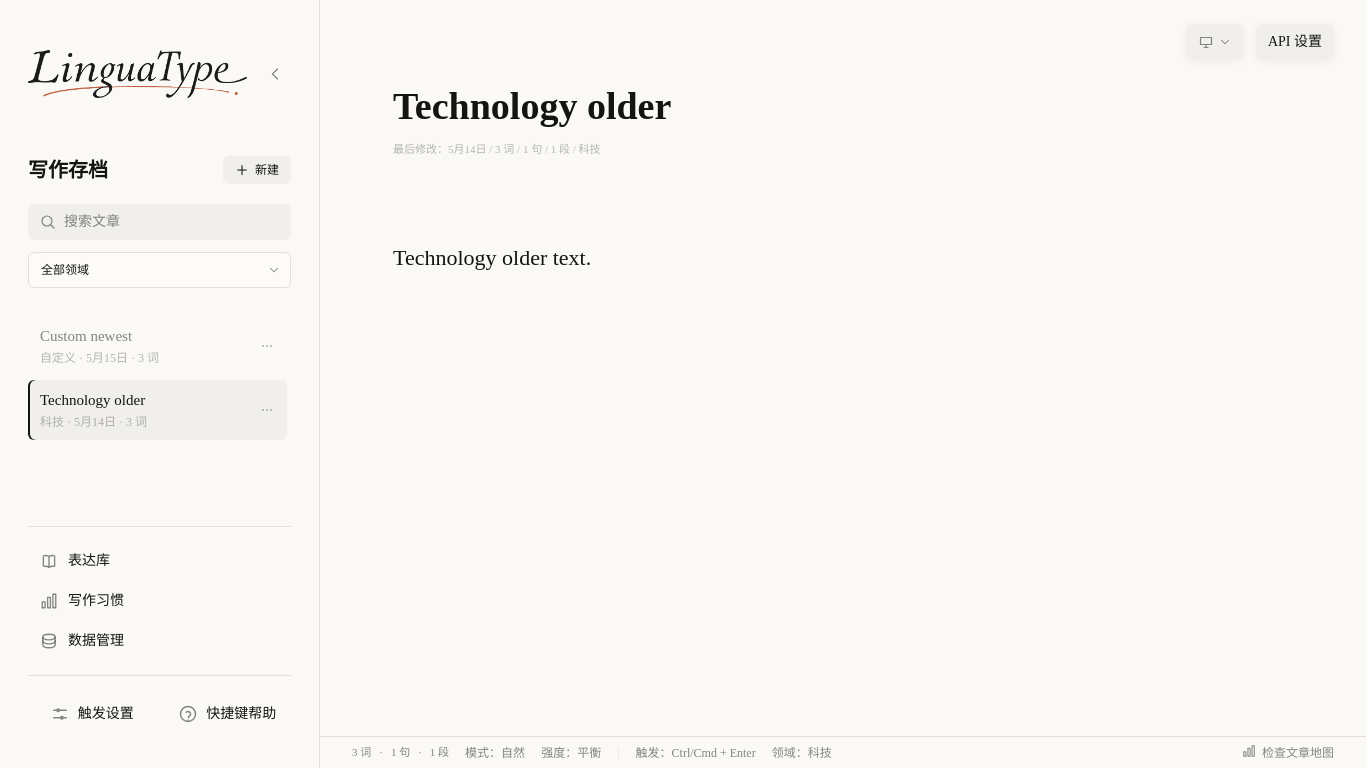
Scenario: LinguaType v0.2.7 editor shell › keeps writing archives filtered by domain but listed in one last-modified order without domain tags
This screenshot has width=1366, height=768.
Expected: the heading "写作存档" is shown, 28,156 -> 108,184
Expected: the button "Custom newest" shows "自定义 ·", 28,316 -> 247,376
Click the dropdown named "按领域筛选" at (65, 270), box 28,252 -> 291,288
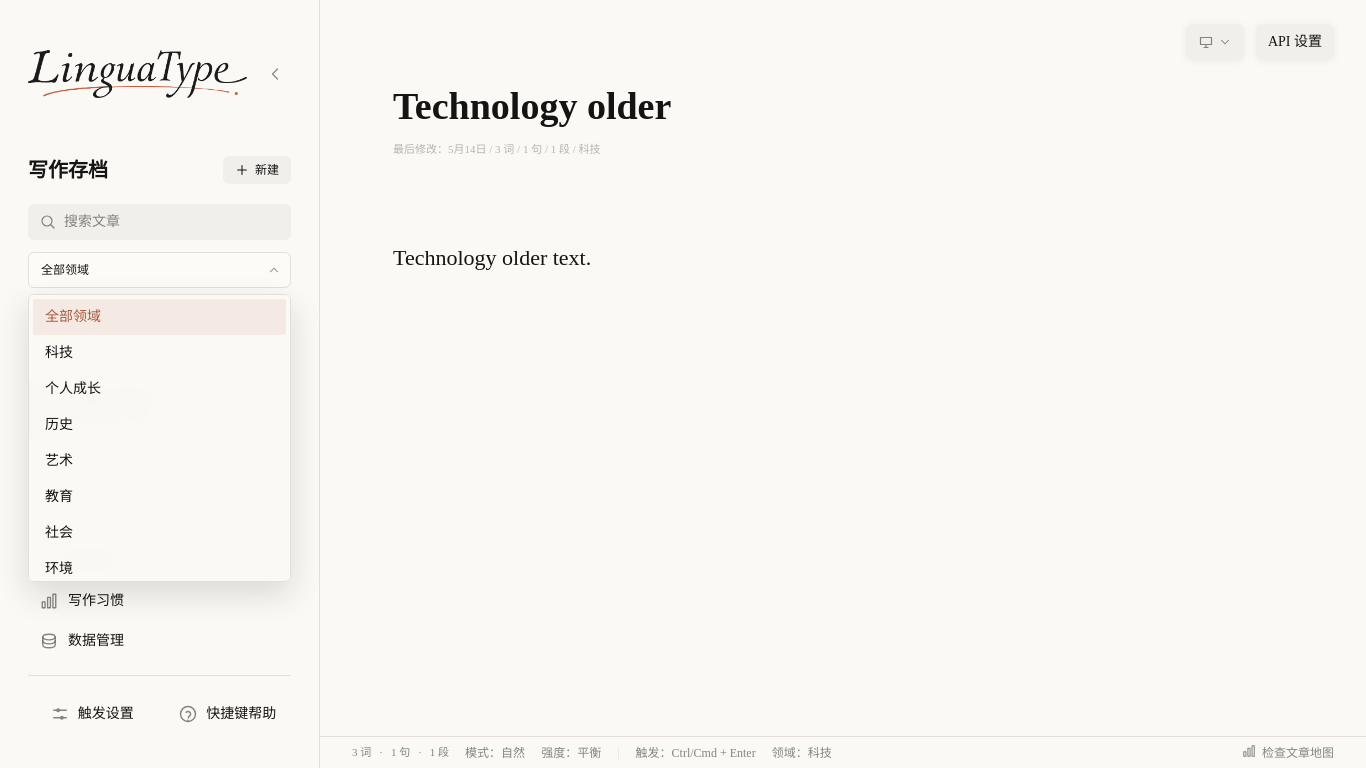
Click the option "科技" at (160, 353), box 33,335 -> 286,371
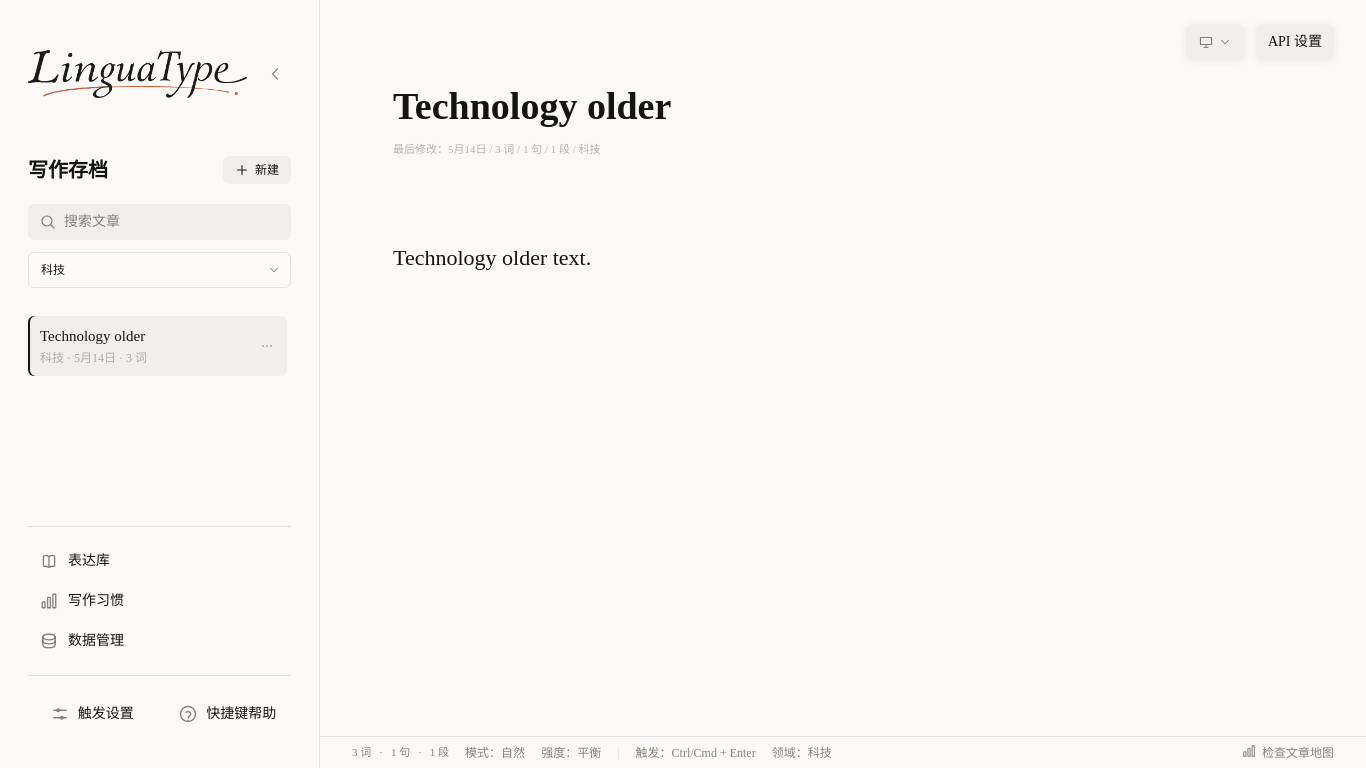
Expected: the button "Technology older" is shown, 28,316 -> 247,376
Now the button "Custom newest" is gone
